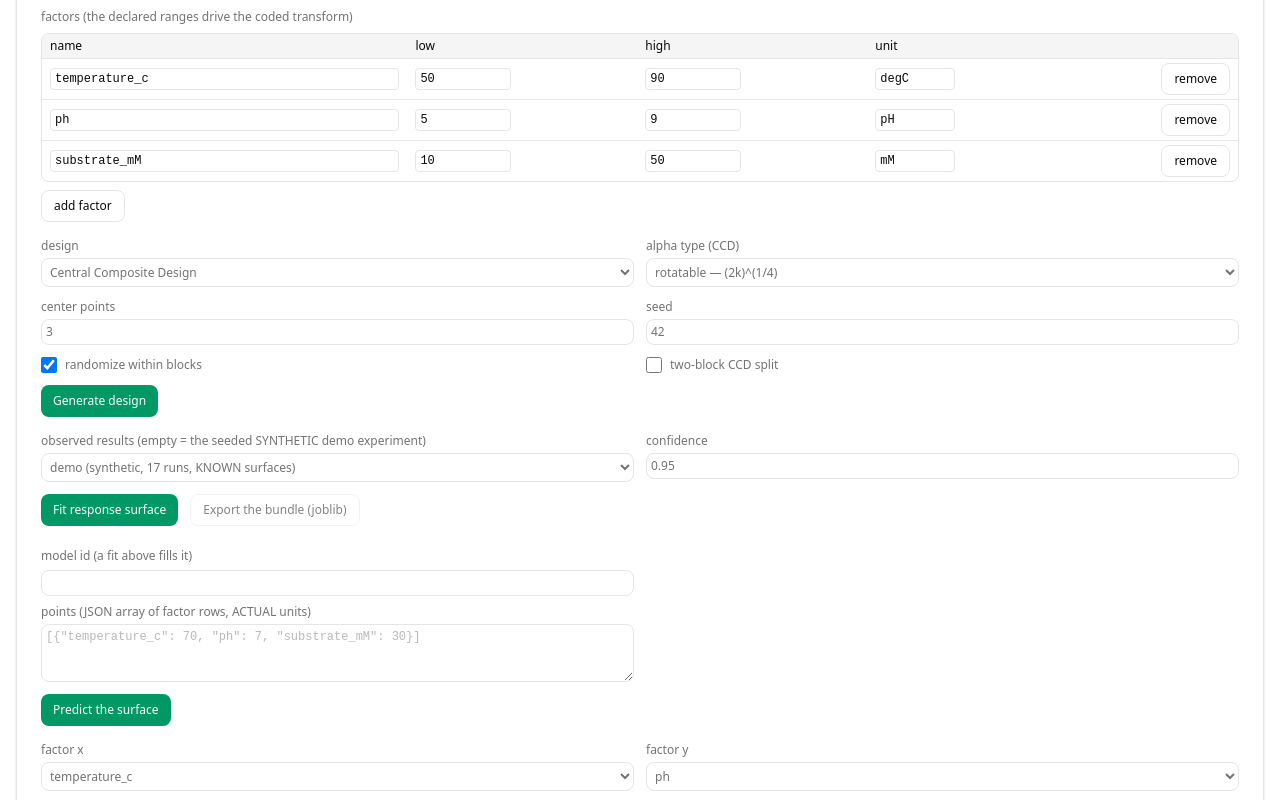
Test: the Experimental Design & Response Surface lane of the Machine Learning workspace › generates a design and renders the run table with the assumptions
This screenshot has width=1280, height=800.
(page scrolled)
Click the button "Generate design" at (100, 401), box x1=41 y1=385 x2=158 y2=417
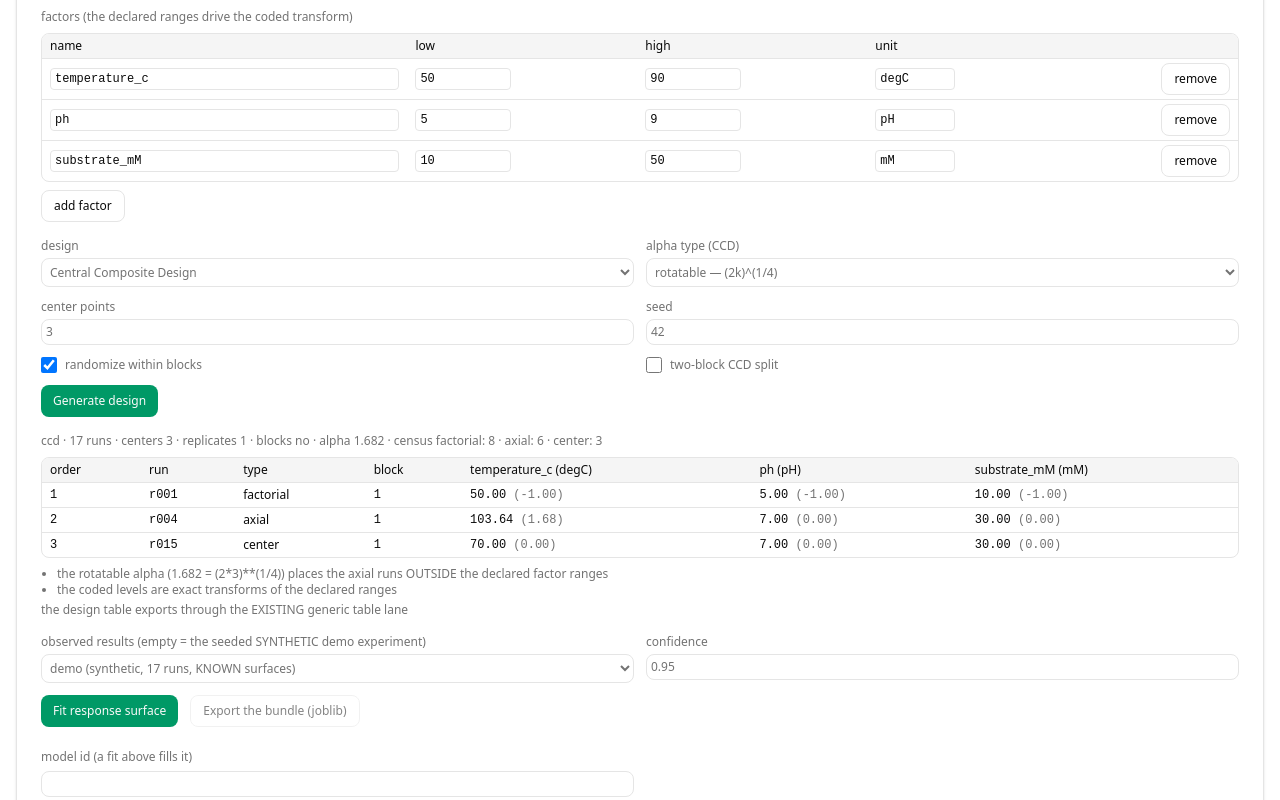
Expected: the text "r001" is shown, x1=141 y1=482 x2=235 y2=507
Expected: the text "factorial" is shown, x1=235 y1=482 x2=366 y2=507
Expected: the text "axial" is shown, x1=235 y1=507 x2=366 y2=532
